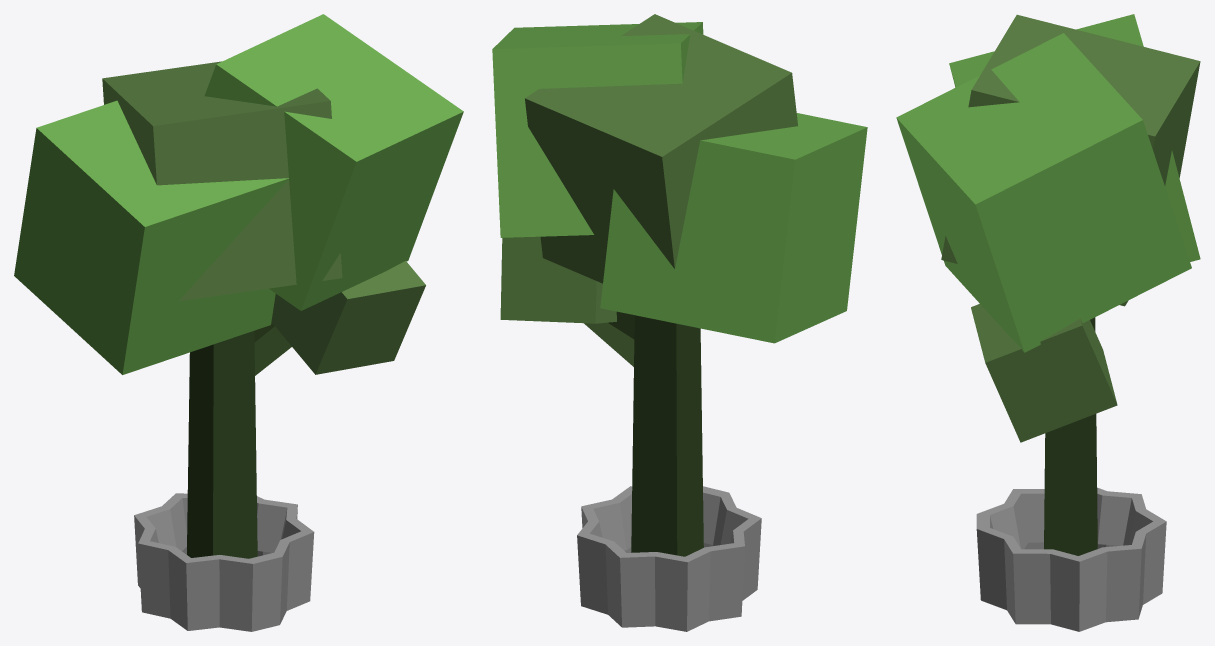
The model's file is tree1.glb.
3 views of the same model, side by side, from view 1: azimuth 30°, elevation 25°; view 2: azimuth 150°, elevation 25°; view 3: azimuth 270°, elevation 25° (orthographic). The views are drawn at different scales.
Parts seen in each view (by area): view 1: Circle; view 2: Circle; view 3: Circle.
Part boxes in pixels (bbox=[...]): Circle: bbox=[14, 14, 463, 631]; Circle: bbox=[492, 14, 867, 631]; Circle: bbox=[896, 14, 1200, 631].
Bounding box in the file's own units: 4.39 × 6.4 × 3.18.
